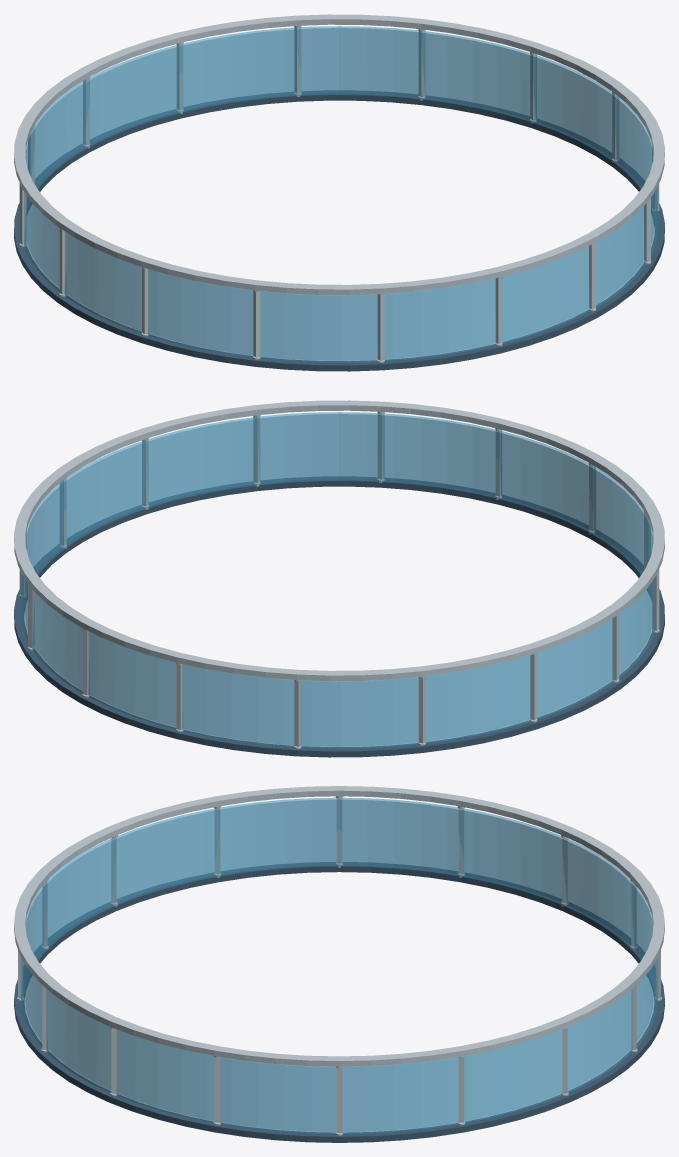
Rendered from 37_L73_TransparentSlurrySplashGuard.fbx.
3 views of the same model, one above another, from view 1: azimuth 30°, elevation 25°; view 2: azimuth 150°, elevation 25°; view 3: azimuth 270°, elevation 25° (orthographic).
Visible parts, largest first — view 1: TransparentSlurrySplashGuard; view 2: TransparentSlurrySplashGuard; view 3: TransparentSlurrySplashGuard.
Boxes of the visible parts, box(x1,y1,x2,y2) form: TransparentSlurrySplashGuard: box(14, 14, 664, 371); TransparentSlurrySplashGuard: box(14, 400, 664, 757); TransparentSlurrySplashGuard: box(14, 786, 664, 1142).
Size of the model in its own units: 582 by 80.75 by 582.
